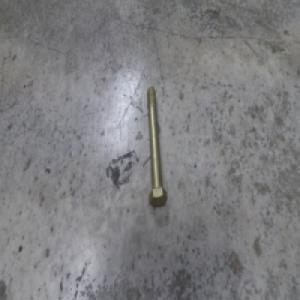Bolt: (146, 87, 168, 209)
